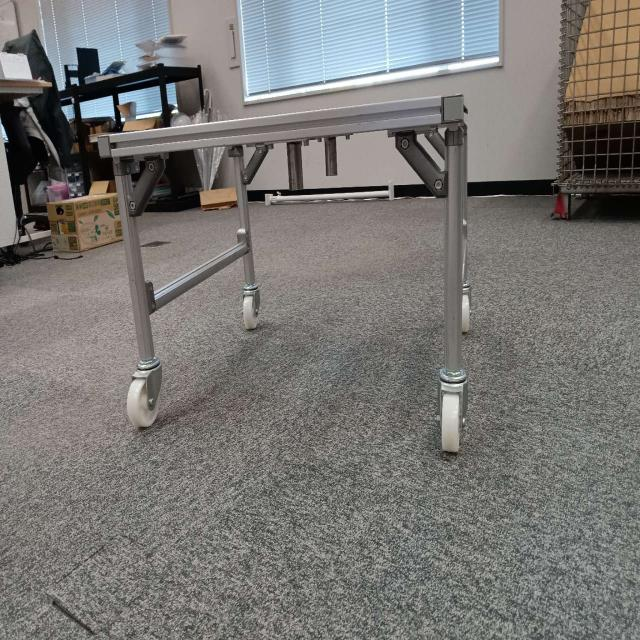box: (46, 193, 116, 251)
door: (116, 96, 456, 217)
